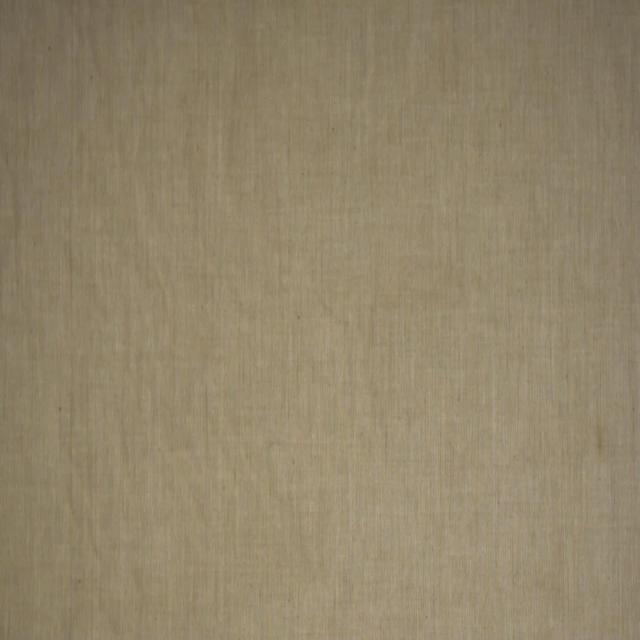dirty: (592, 423, 608, 452)
